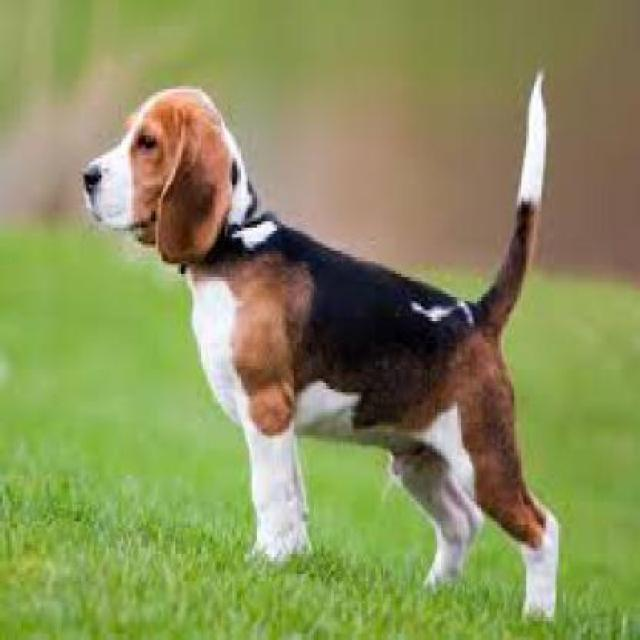Dog: (76, 66, 566, 629)
